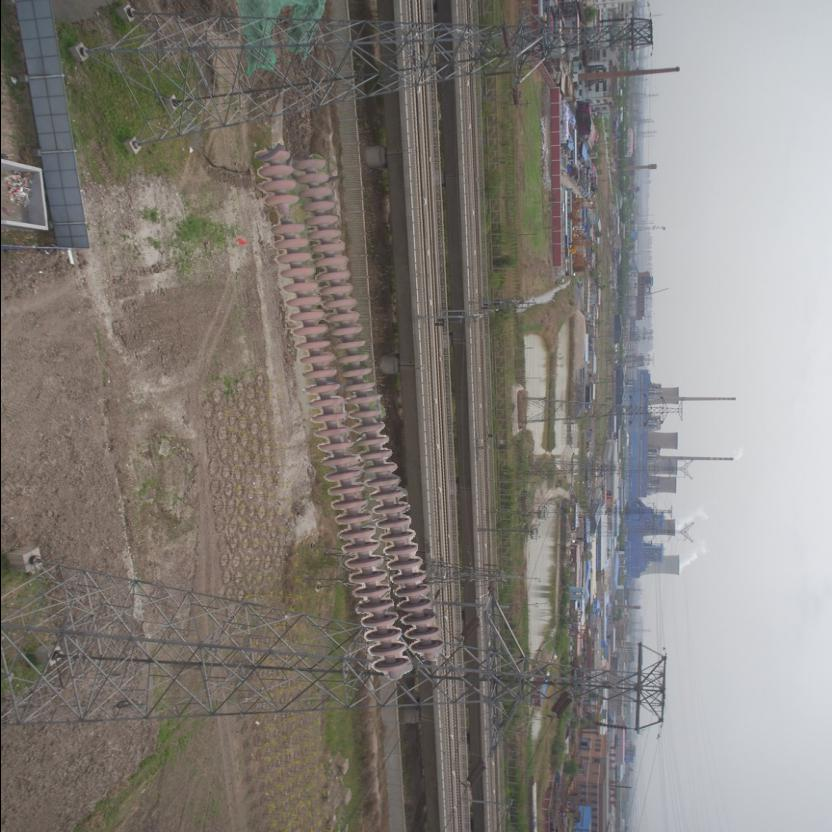defect: (263, 192, 308, 240)
